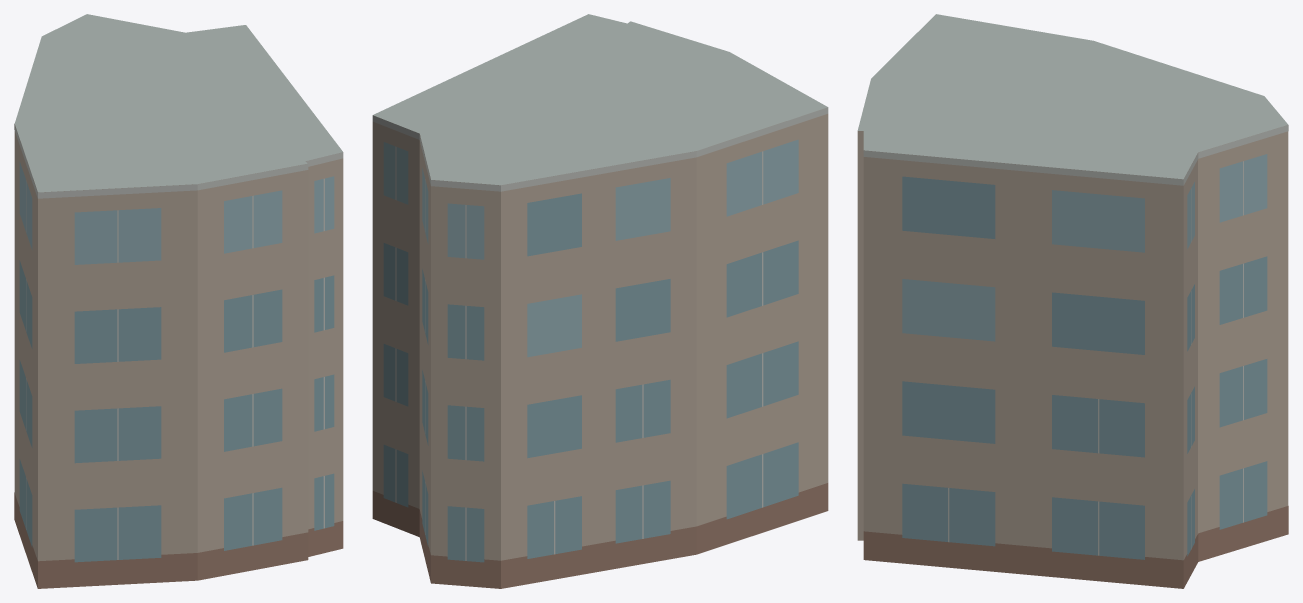
The model's file is survey-upis-32994265.glb.
3 views of the same model, side by side, from view 1: azimuth 30°, elevation 25°; view 2: azimuth 150°, elevation 25°; view 3: azimuth 270°, elevation 25° (orthographic). The views are drawn at different scales.
Parts seen in each view (by area): view 1: survey-upis-32994265.tmp; view 2: survey-upis-32994265.tmp; view 3: survey-upis-32994265.tmp.
Part boxes in pixels (x1,y1,x2,y2): survey-upis-32994265.tmp: [14, 14, 343, 588]; survey-upis-32994265.tmp: [372, 14, 828, 588]; survey-upis-32994265.tmp: [857, 14, 1288, 588].
Bounding box in the file's own units: 13.34 × 15.4 × 14.7.
